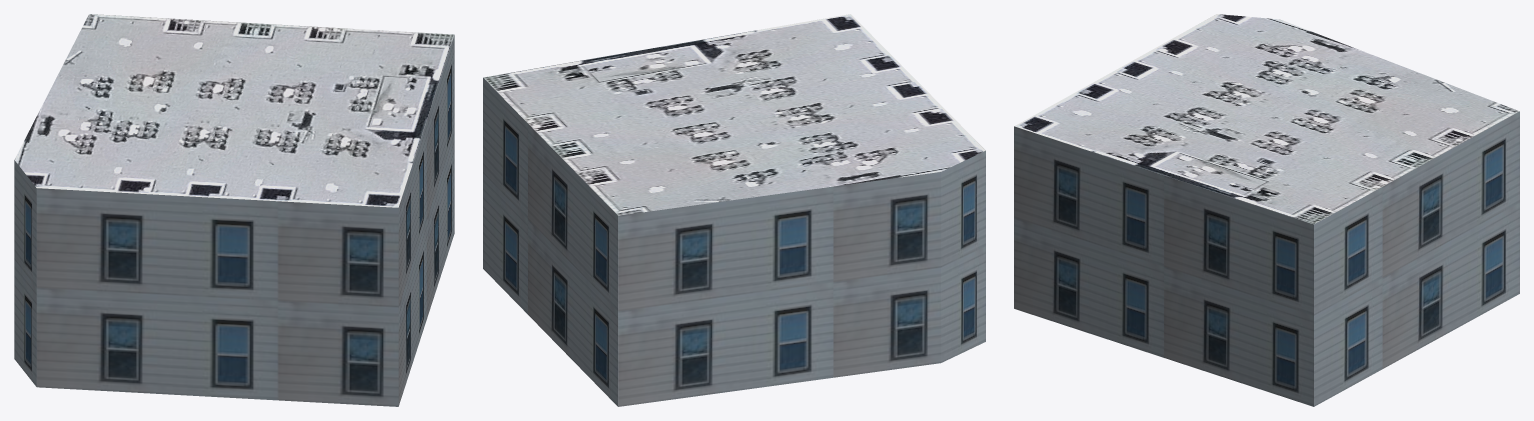
Rendered from ResTex__299.fbx.
3 views of the same model, side by side, from view 1: azimuth 30°, elevation 25°; view 2: azimuth 150°, elevation 25°; view 3: azimuth 270°, elevation 25° (orthographic). The views are drawn at different scales.
Visible parts, largest first — view 1: CityEngineMaterial_18_m, CityEngineMaterial_4_m; view 2: CityEngineMaterial_18_m, CityEngineMaterial_4_m; view 3: CityEngineMaterial_18_m, CityEngineMaterial_4_m.
Boxes of the visible parts, left/top/right/bottom form: CityEngineMaterial_18_m: left=14, top=35, right=454, bottom=406; CityEngineMaterial_4_m: left=14, top=14, right=454, bottom=207; CityEngineMaterial_18_m: left=483, top=78, right=985, bottom=406; CityEngineMaterial_4_m: left=483, top=14, right=985, bottom=215; CityEngineMaterial_18_m: left=1014, top=111, right=1519, bottom=406; CityEngineMaterial_4_m: left=1014, top=14, right=1519, bottom=224.
Bounding box in the file's own units: 14.85 × 6 × 15.07.
2 materials, 2 textured.
